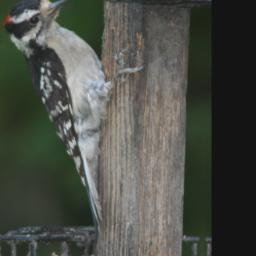Woodpecker: (0, 0, 146, 235)
